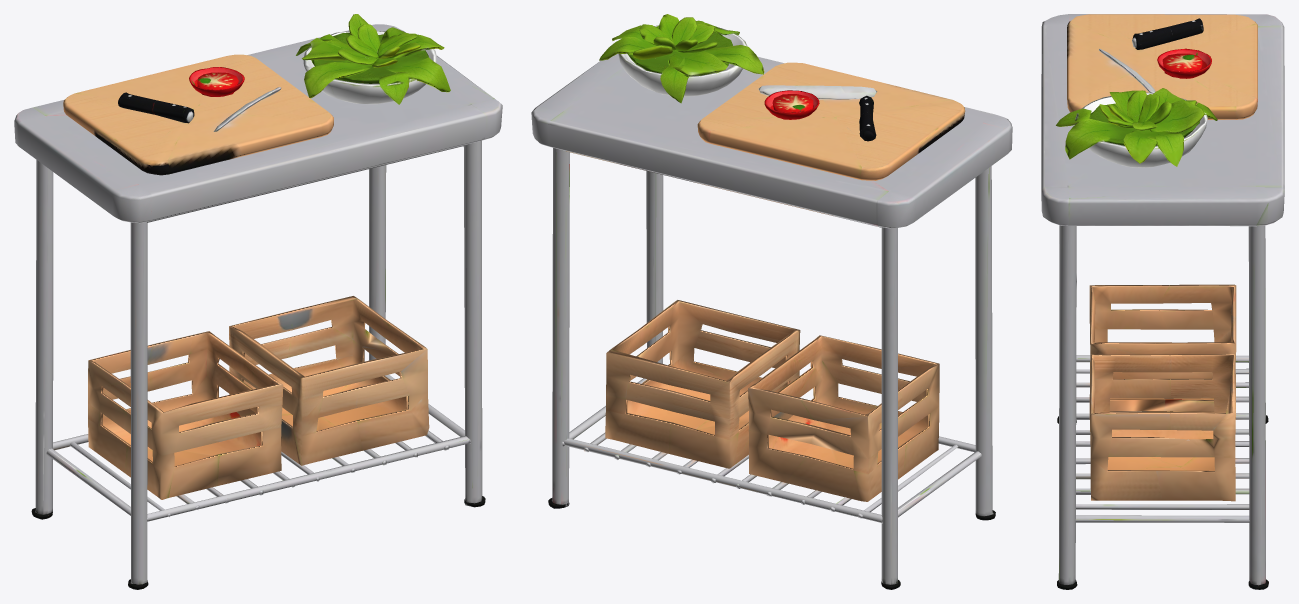
The model's file is prop_kitchen_prep_table.glb.
3 renders of one model, left to right at view 1: azimuth 30°, elevation 25°; view 2: azimuth 150°, elevation 25°; view 3: azimuth 270°, elevation 25°, orthographic.
Bounding box in the file's own units: 0.8799 × 0.9937 × 0.4826.
Materials: 1 (1 with a texture image).
